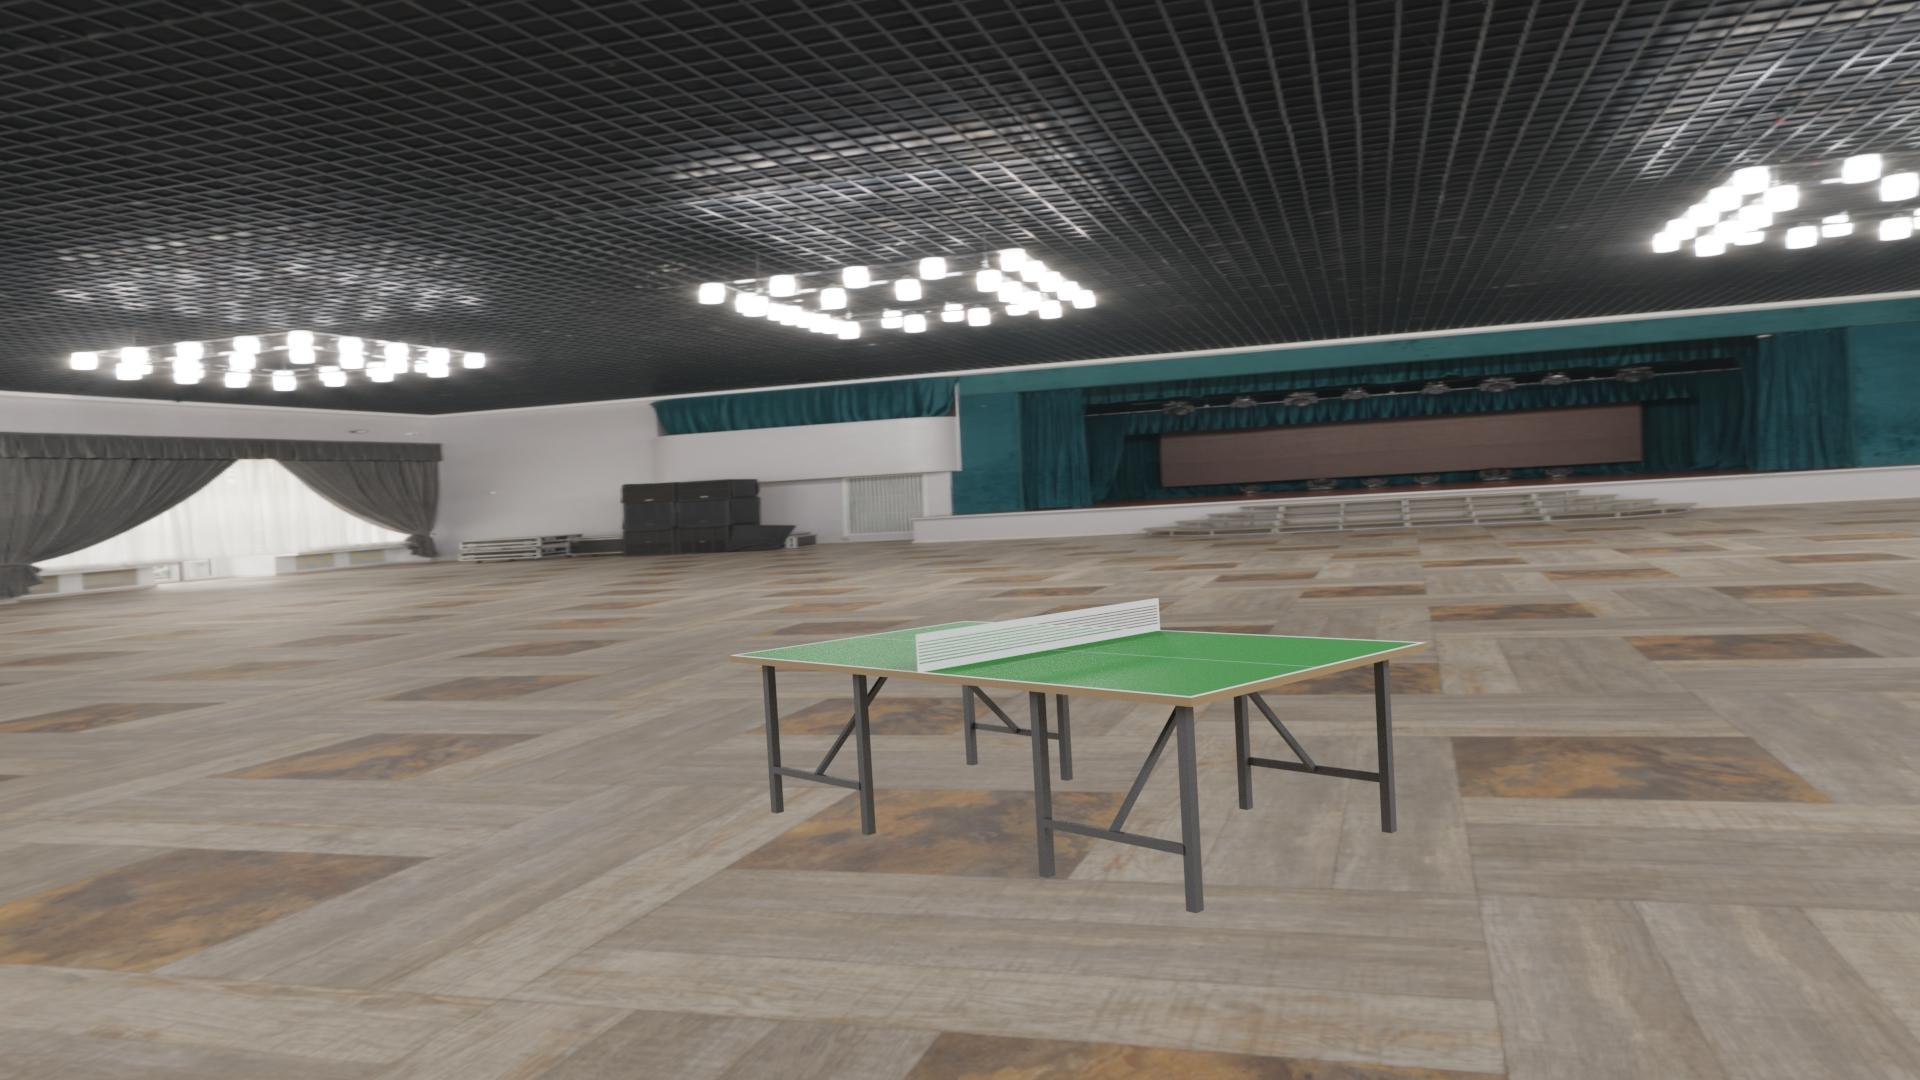table: (736, 621, 1419, 696)
